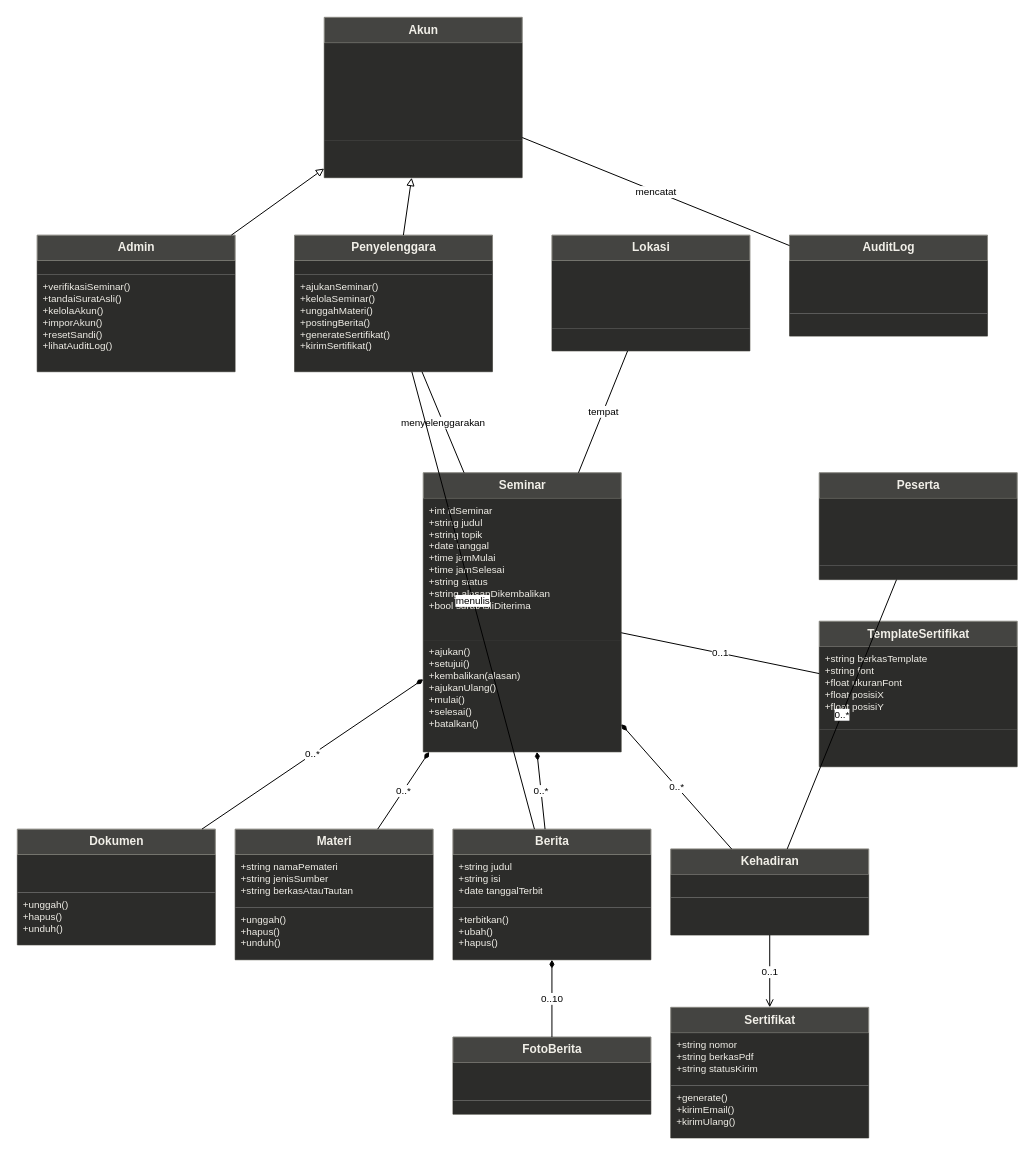
Some shapes in this 1035 by 1158 pixel diagram are drawn without their labels. The centre of each missing label's shape, as x and y in pixels:
+catat(): [888,324]
+catat() +cekDuplikat(): [769,916]
+cekBentrok(tanggal, mulai, selesai): [650,339]
+datetime waktu +string aksi +string detail: [888,286]
+datetime waktuHadir: [769,885]
+int idAkun +string nama +string nip +string email +string peran +bool aktif: [423,91]
+int idLokasi +string nama +int kapasitas +bool cekRuangFisik: [650,294]
+int idPeserta +string nama +string nip +string email: [918,531]
+login() +gantiSandi(): [423,158]
+simpan() +pratinjau(): [918,747]
+string berkas +int urutan: [551,1081]
+string jenis +string namaBerkas: [116,873]
